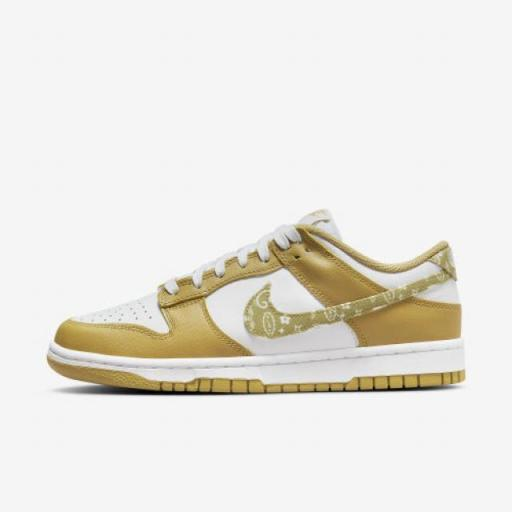Nike: (242, 266, 452, 342)
